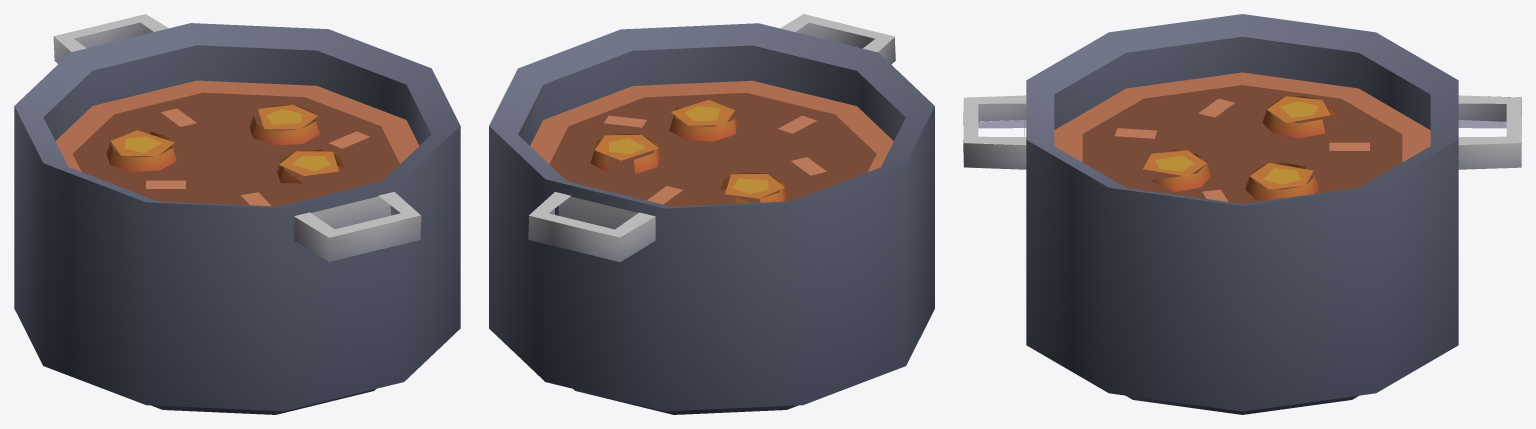
The model's file is pot_stew.fbx.
3 views of the same model, side by side, from view 1: azimuth 30°, elevation 25°; view 2: azimuth 150°, elevation 25°; view 3: azimuth 270°, elevation 25° (orthographic).
Visible parts, largest first — view 1: pot-stew; view 2: pot-stew; view 3: pot-stew.
Part boxes in pixels (box(x1,y1,x2,y2)): pot-stew: box(14, 14, 460, 414); pot-stew: box(489, 14, 934, 414); pot-stew: box(963, 14, 1521, 414).
Bounding box in the file's own units: 0.8138 × 0.4466 × 1.
